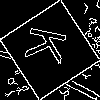K: (25, 25, 77, 67)
